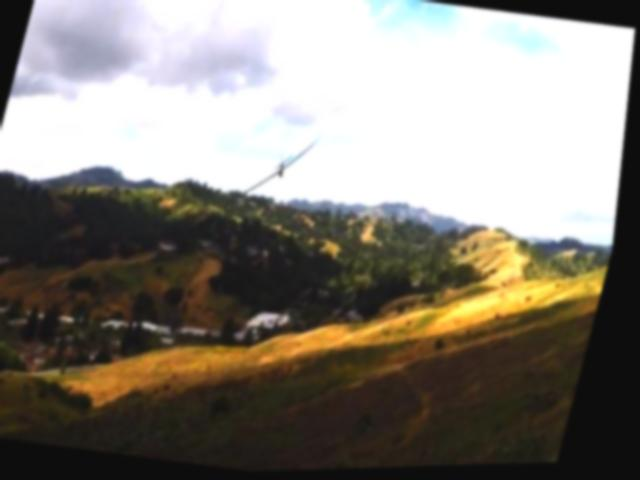iha: (235, 129, 324, 208)
